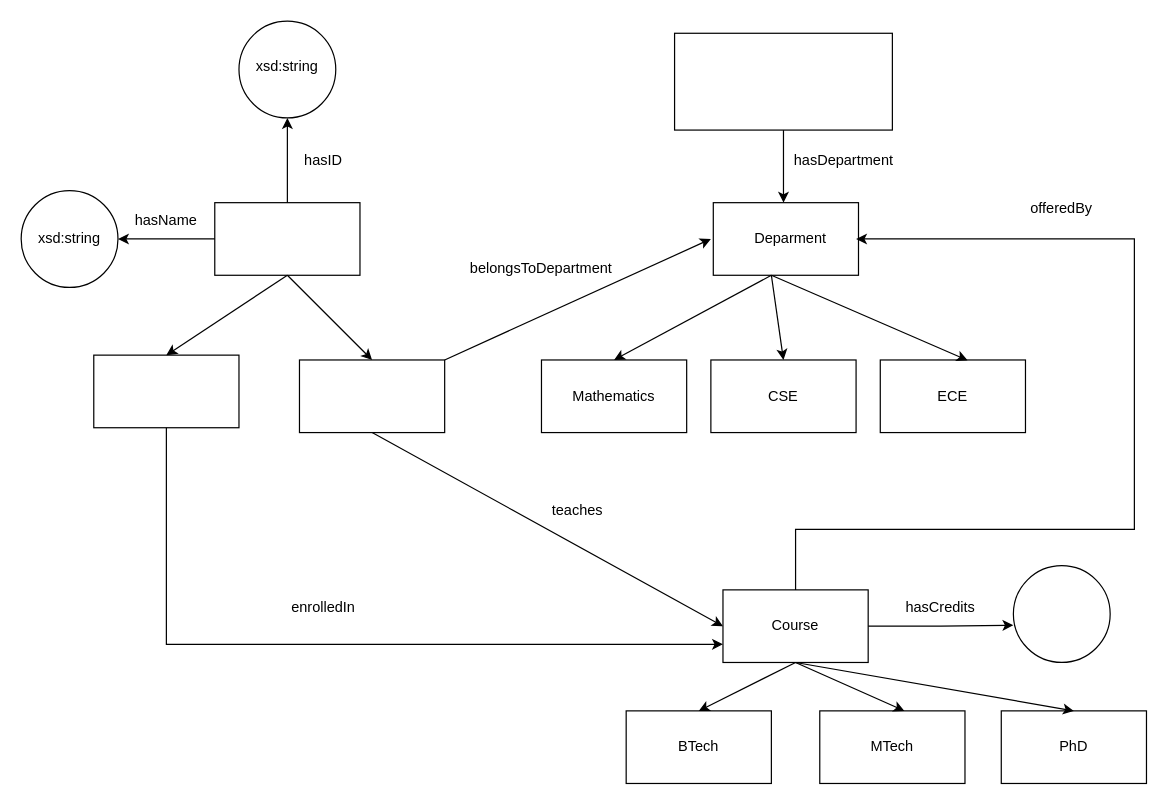
Image size: 1168x805. Some labels were removed from this diagram. The shapes that lost their labels are listed below. From the top down, each one's centre as x and y in pixels, then its label:
(x=782, y=81): University ABC
(x=287, y=238): Person
(x=166, y=391): Student
(x=371, y=396): Faculty
(x=1061, y=613): xsd:int
